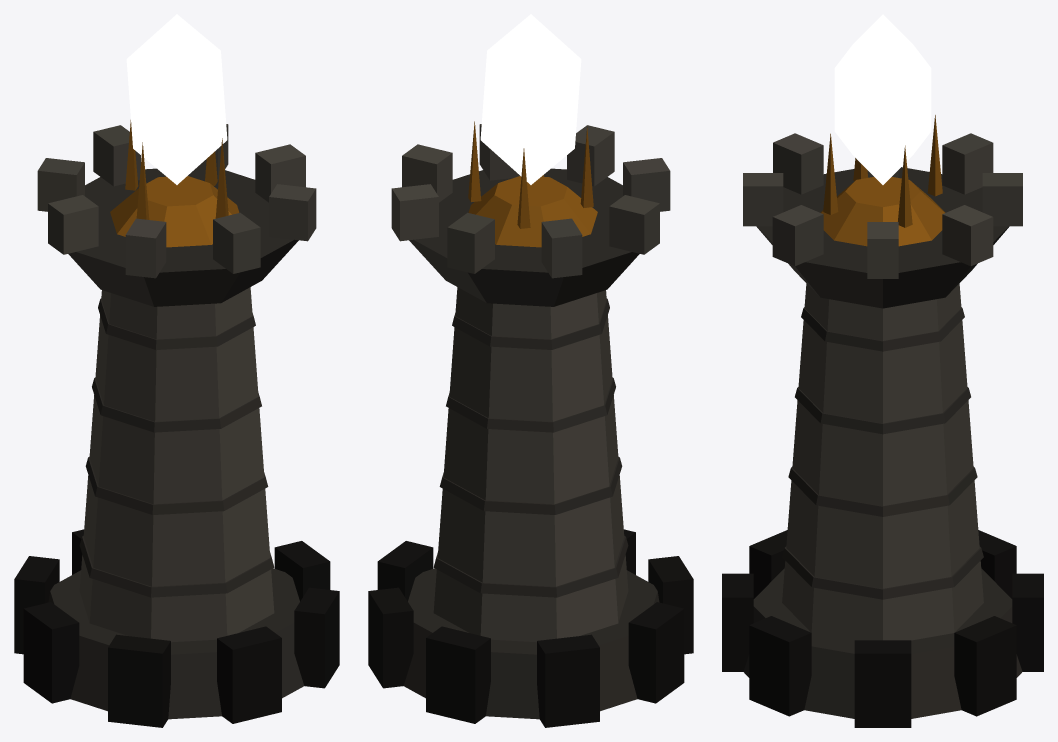
Rendered from struct_tower.glb.
3 renders of one model, left to right at view 1: azimuth 30°, elevation 25°; view 2: azimuth 150°, elevation 25°; view 3: azimuth 270°, elevation 25°, orthographic.
Parts seen in each view (by area): view 1: struct_tower_piedra, struct_tower_equipo; view 2: struct_tower_piedra, struct_tower_equipo; view 3: struct_tower_piedra, struct_tower_equipo.
Boxes of the visible parts, left/top/right/bottom form: struct_tower_piedra: left=14, top=120, right=339, bottom=727; struct_tower_equipo: left=126, top=14, right=227, bottom=184; struct_tower_piedra: left=368, top=121, right=693, bottom=727; struct_tower_equipo: left=480, top=14, right=581, bottom=184; struct_tower_piedra: left=722, top=115, right=1043, bottom=727; struct_tower_equipo: left=834, top=14, right=931, bottom=184.
Size of the model in its own units: 2.55 by 5.65 by 2.55.
